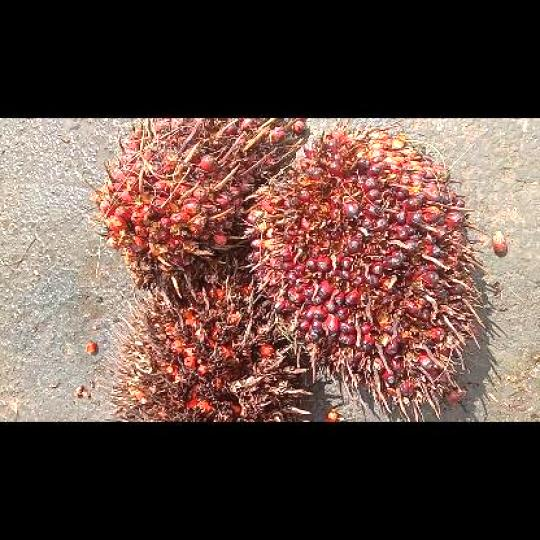masak: (243, 117, 489, 420), (85, 118, 302, 297)
terlalu masak: (98, 272, 312, 421)
